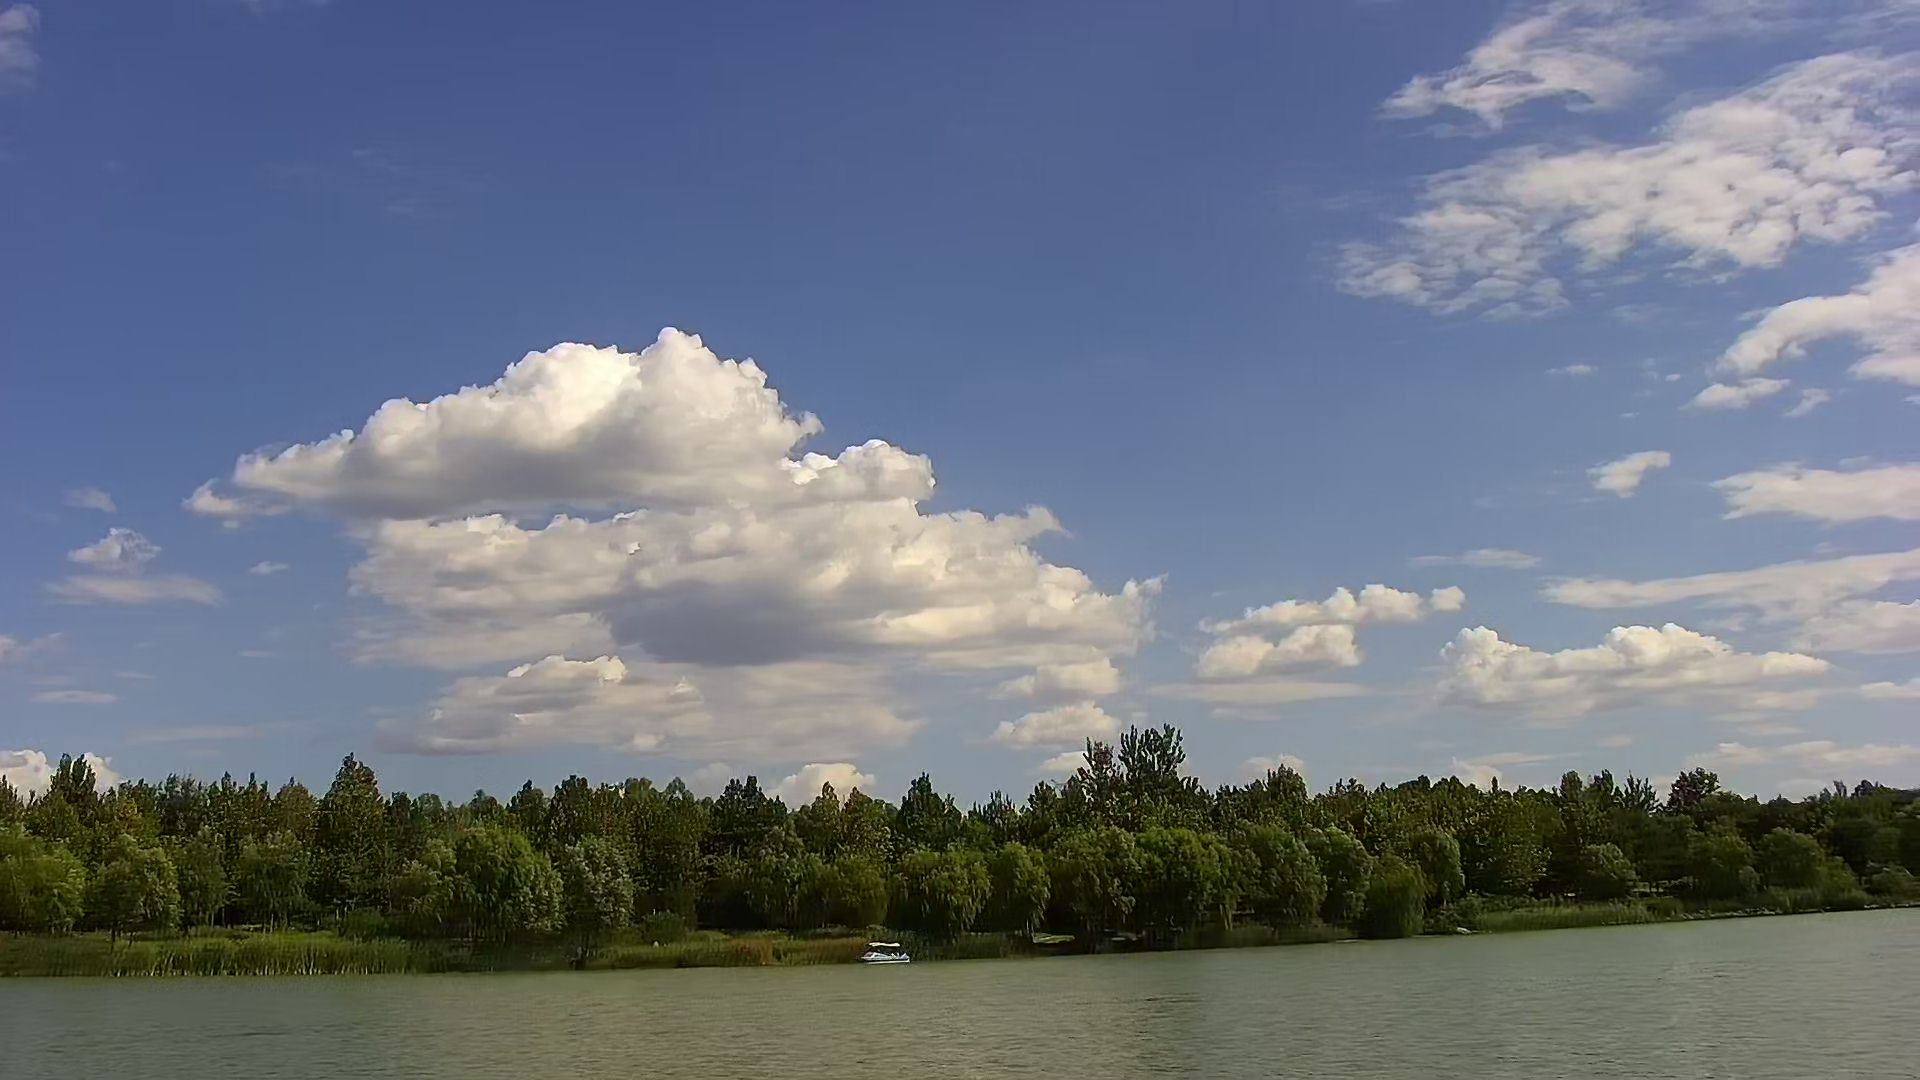boat: (851, 940, 918, 968)
